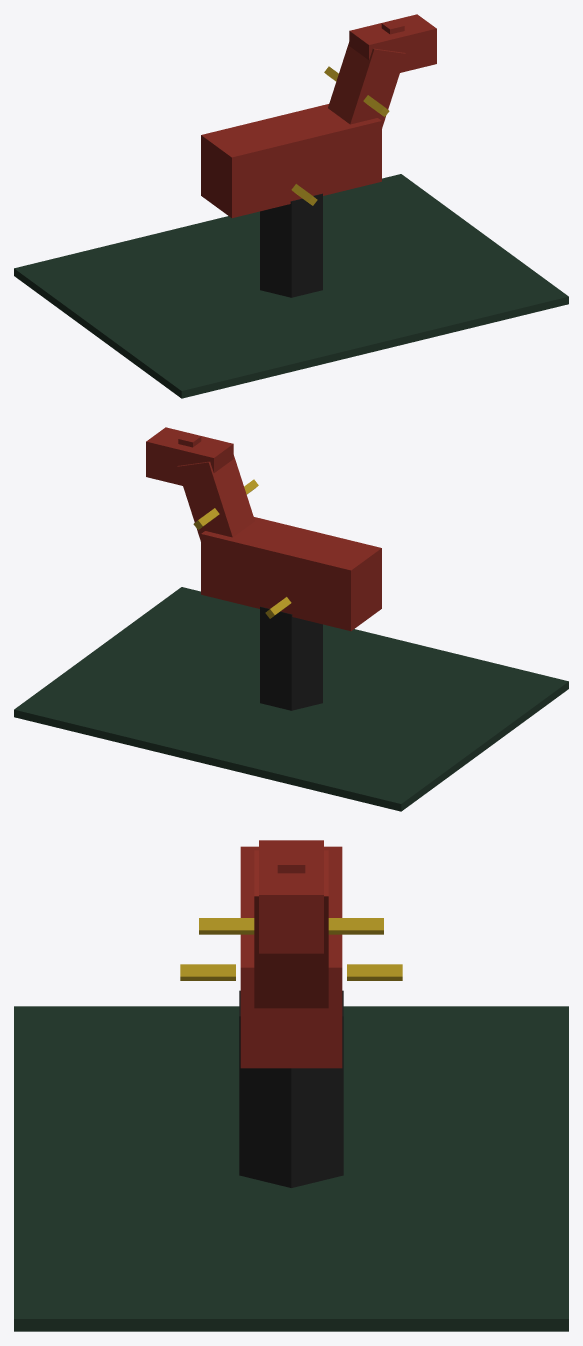
The model's file is SM_Prop_play_springer_0_LOD1.glb.
3 views of the same model, one above another, from view 1: azimuth 30°, elevation 25°; view 2: azimuth 150°, elevation 25°; view 3: azimuth 270°, elevation 25° (orthographic). The views are drawn at different scales.
Parts seen in each view (by area): view 1: SM_Prop_play_springer_0_LOD1; view 2: SM_Prop_play_springer_0_LOD1; view 3: SM_Prop_play_springer_0_LOD1.
Boxes of the visible parts, left/top/right/bottom form: SM_Prop_play_springer_0_LOD1: left=14, top=14, right=568, bottom=398; SM_Prop_play_springer_0_LOD1: left=14, top=427, right=568, bottom=811; SM_Prop_play_springer_0_LOD1: left=14, top=840, right=568, bottom=1331.
Size of the model in its own units: 1.6 by 0.95 by 1.2.
